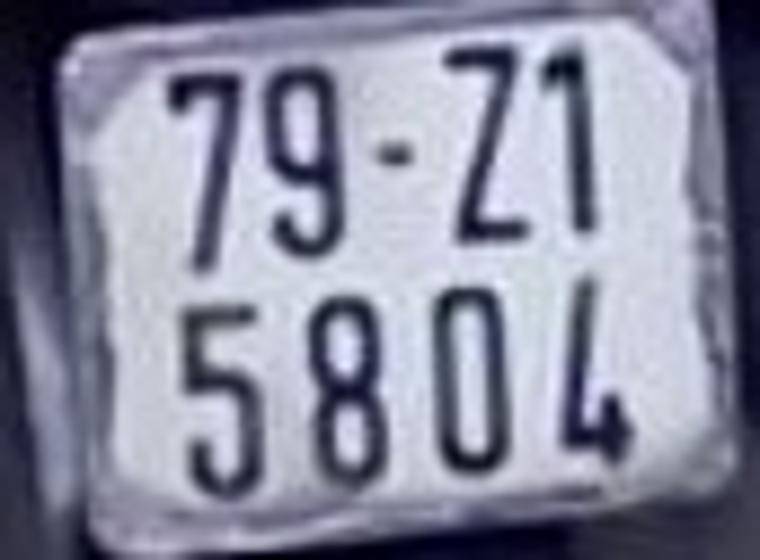-: (371, 127, 423, 189)
0: (426, 281, 509, 481)
1: (542, 42, 604, 242)
4: (543, 274, 638, 469)
5: (178, 300, 270, 503)
7: (159, 66, 244, 279)
8: (304, 296, 388, 491)
9: (260, 54, 350, 260)
Z: (438, 36, 524, 245)
